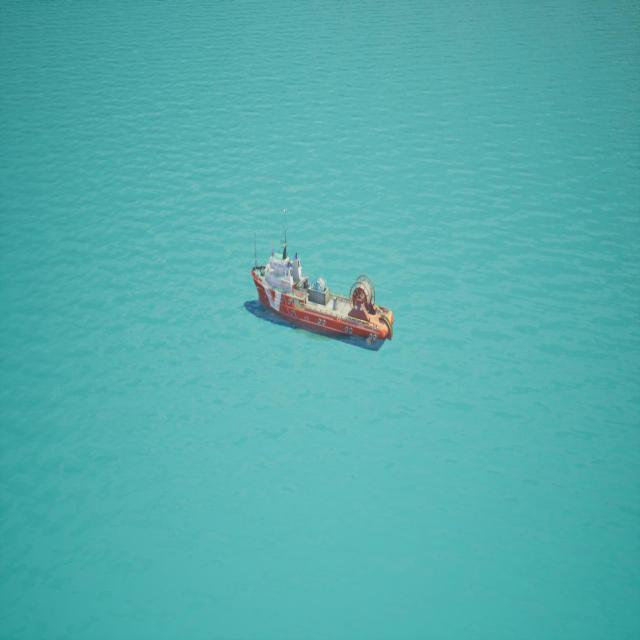tug boat: (245, 205, 393, 351)
